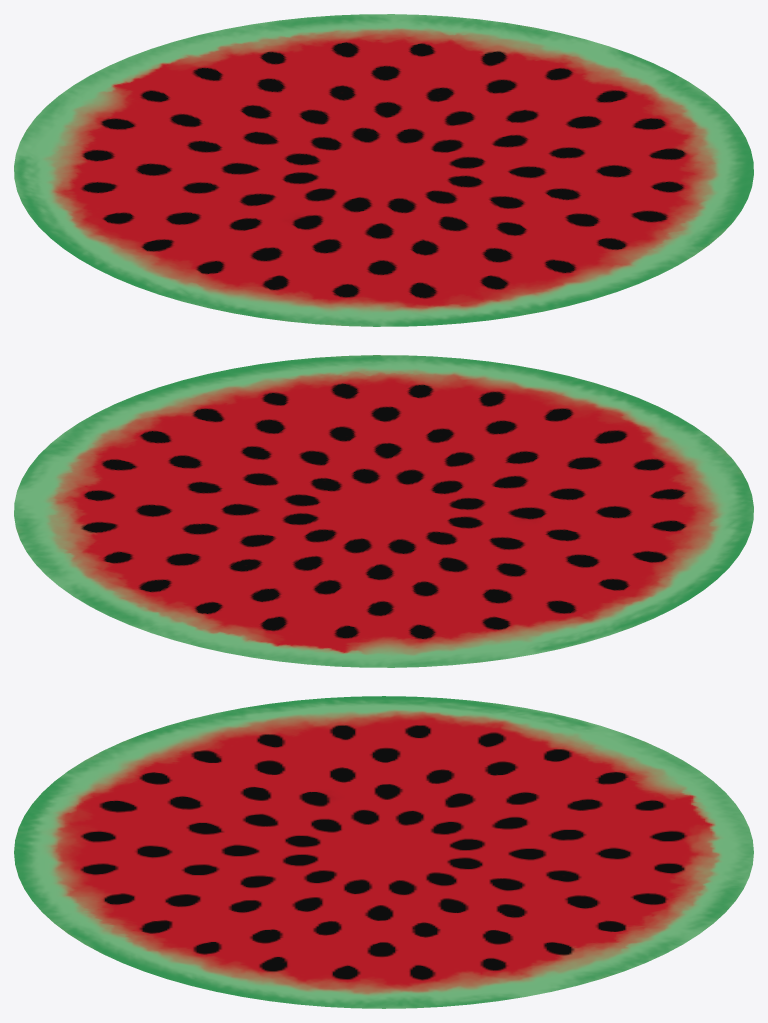
Rendered from Plano.glb.
The picture shows the model from 3 angles, top to bottom: view 1: azimuth 30°, elevation 25°; view 2: azimuth 150°, elevation 25°; view 3: azimuth 270°, elevation 25°; orthographic projection.
Parts seen in each view (by area): view 1: pCylinder1; view 2: pCylinder1; view 3: pCylinder1.
Boxes of the visible parts, bbox=[...] form: pCylinder1: bbox=[14, 14, 753, 326]; pCylinder1: bbox=[14, 355, 753, 667]; pCylinder1: bbox=[14, 696, 753, 1008].
Bounding box in the file's own units: 0.0197 × 4.36e-18 × 0.0197.
Materials: 1 (1 with a texture image).
